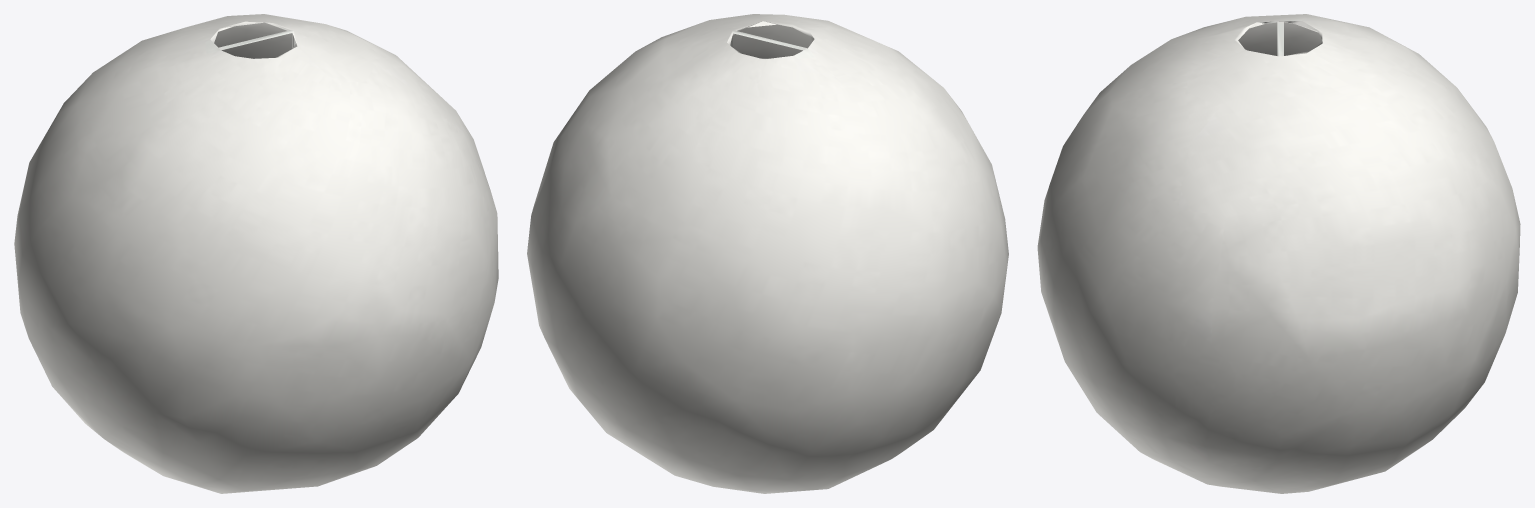
The model's file is 09 - GULLSUDARE Pendant lamp shade - whitehandmade 70 cm.glb.
The picture shows the model from 3 angles, left to right: view 1: azimuth 30°, elevation 25°; view 2: azimuth 150°, elevation 25°; view 3: azimuth 270°, elevation 25°; orthographic projection.
Parts seen in each view (by area): view 1: ASY_ART_80583616_S01_NV01; view 2: ASY_ART_80583616_S01_NV01; view 3: ASY_ART_80583616_S01_NV01.
Boxes of the visible parts, x1,y1,x2,y2 form: ASY_ART_80583616_S01_NV01: [14, 14, 498, 493]; ASY_ART_80583616_S01_NV01: [527, 14, 1008, 493]; ASY_ART_80583616_S01_NV01: [1037, 14, 1520, 493].
Size of the model in its own units: 0.7031 by 0.6997 by 0.7053.
1 material, 1 textured.
